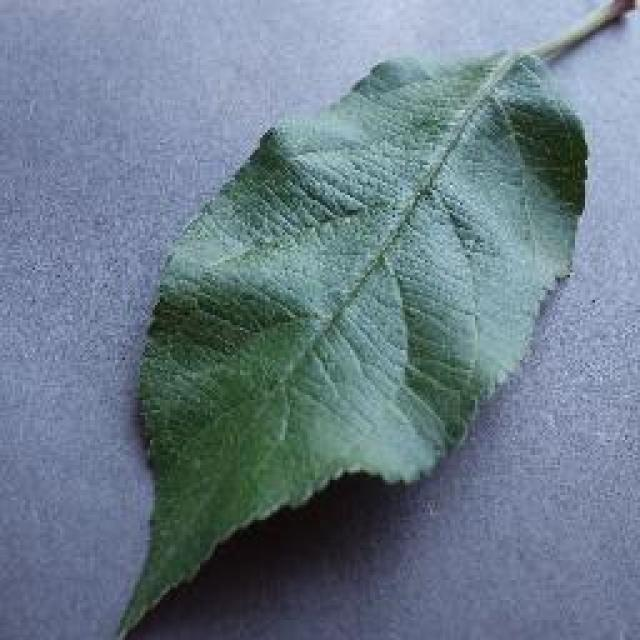apple healthy: (105, 0, 637, 638)
